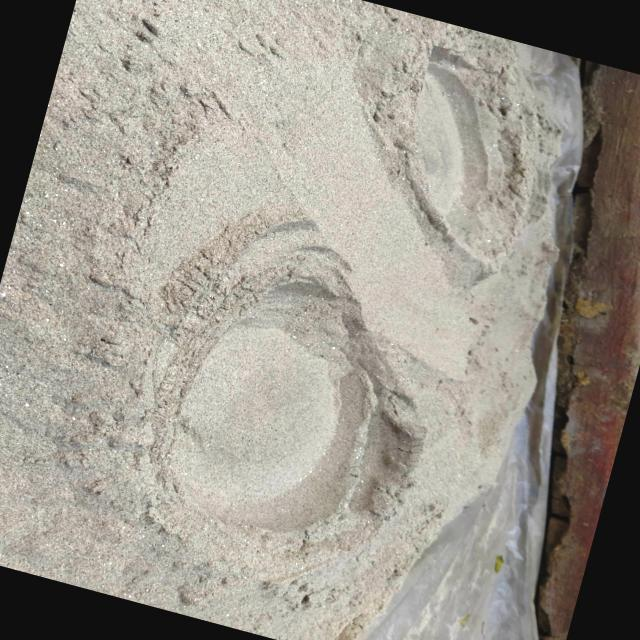C20: (165, 259, 418, 530), (406, 45, 549, 281)
